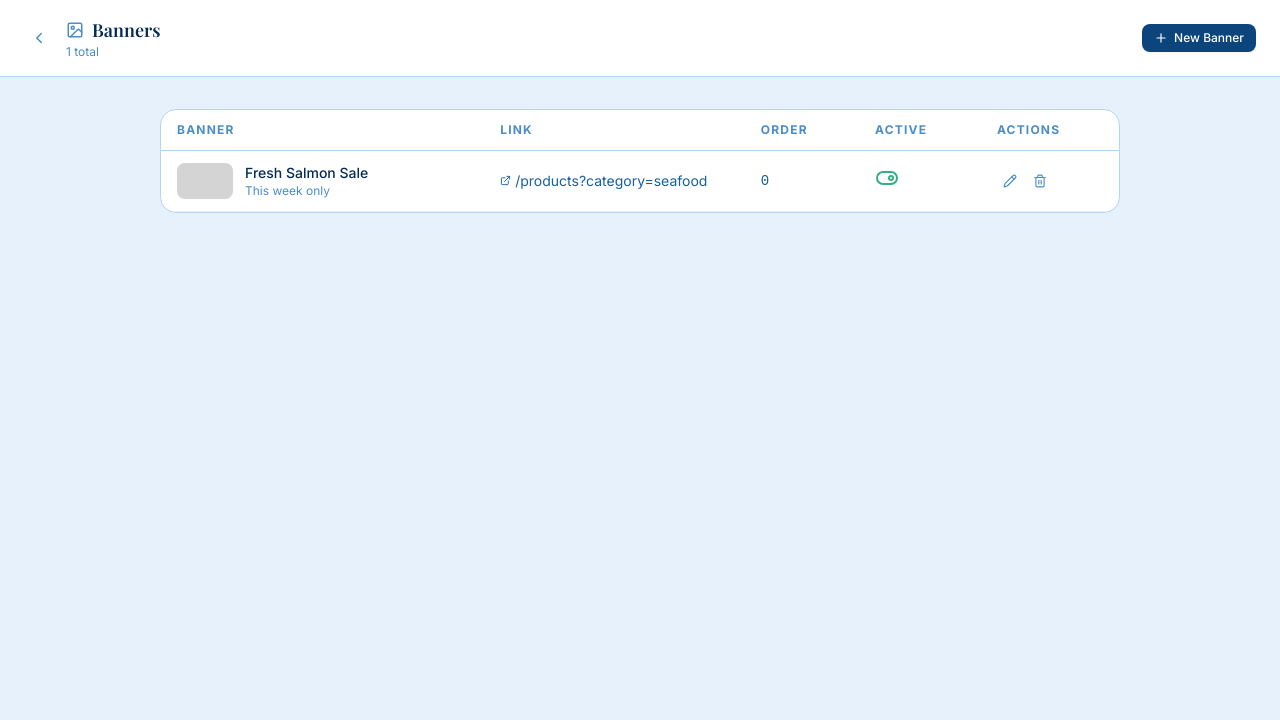
AdminBannersPage › opens the edit modal pre-filled with banner data
Expected: the text "Fresh Salmon Sale" is shown, [245, 163, 368, 183]
Click the button named "Edit Fresh Salmon Sale" at (1010, 181), box [997, 168, 1023, 194]
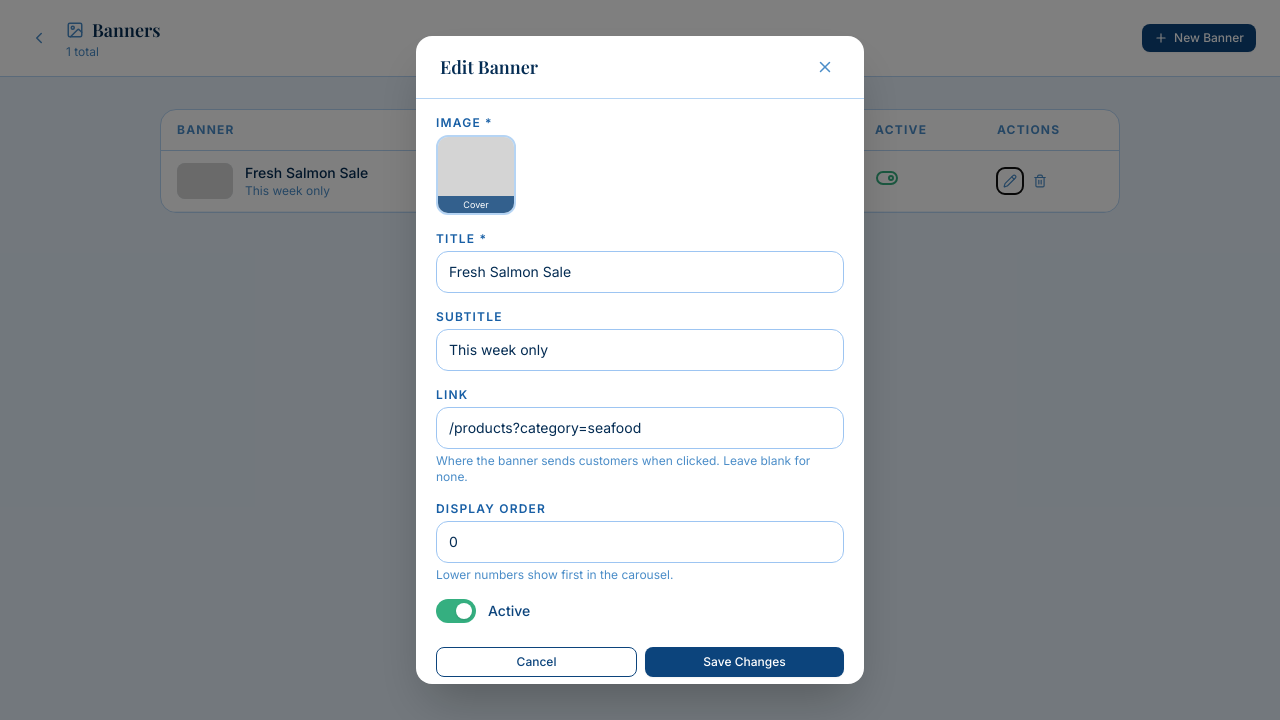
Expected: the heading "Edit Banner" is shown, [440, 53, 538, 81]
Expected: the field showing "Fresh Salmon Sale" below "Title *" is shown, [436, 251, 844, 293]
